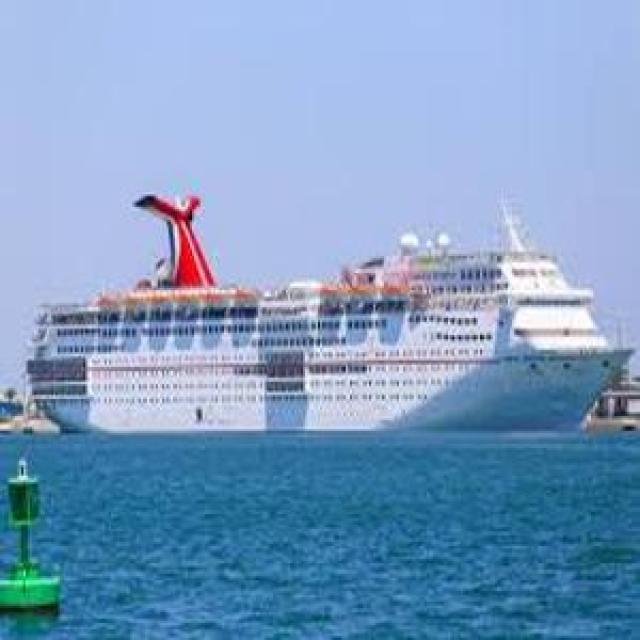passenger ship: (23, 189, 623, 437)
